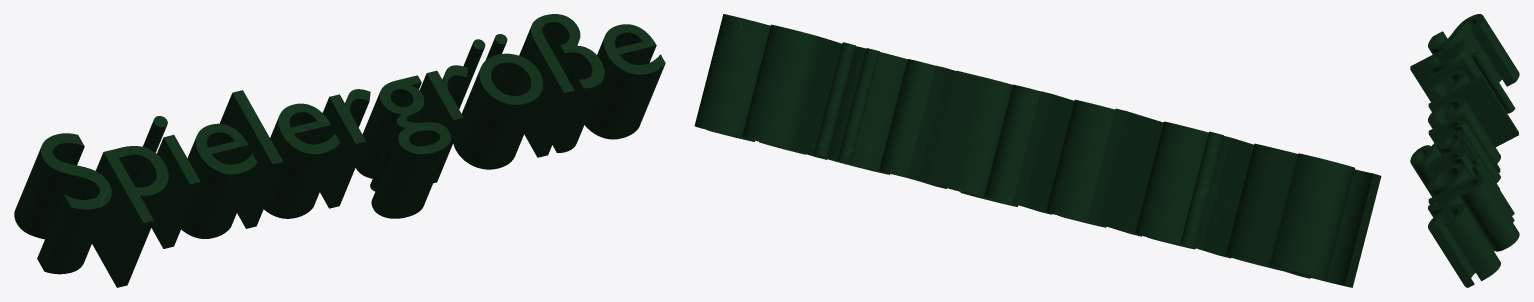
File: MainMenu_PlayerHightText.fbx
3 renders of one model, left to right at view 1: azimuth 30°, elevation 25°; view 2: azimuth 150°, elevation 25°; view 3: azimuth 270°, elevation 25°, orthographic. The views are drawn at different scales.
Parts seen in each view (by area): view 1: Text.003; view 2: Text.003; view 3: Text.003.
Part boxes in pixels (bbox=[...]): Text.003: bbox=[14, 14, 665, 287]; Text.003: bbox=[694, 14, 1381, 287]; Text.003: bbox=[1410, 14, 1519, 287].
Size of the model in its own units: 8.75 by 1.98 by 2.07.
1 material, 1 textured.
